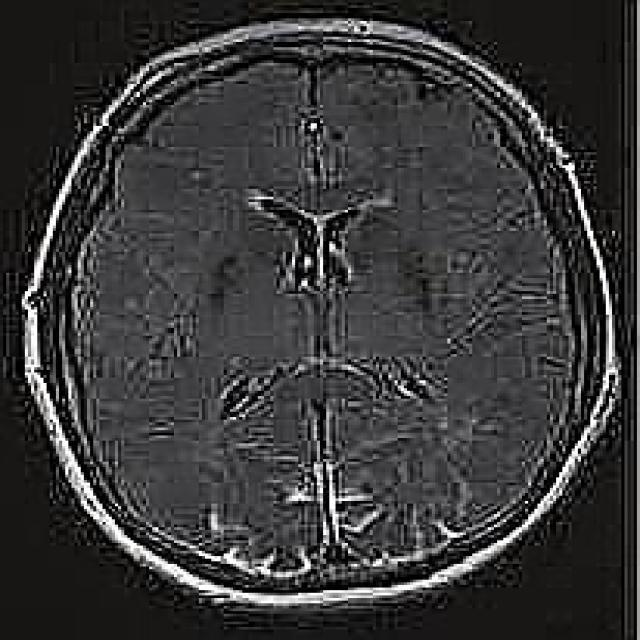notumor: (22, 18, 621, 614)
